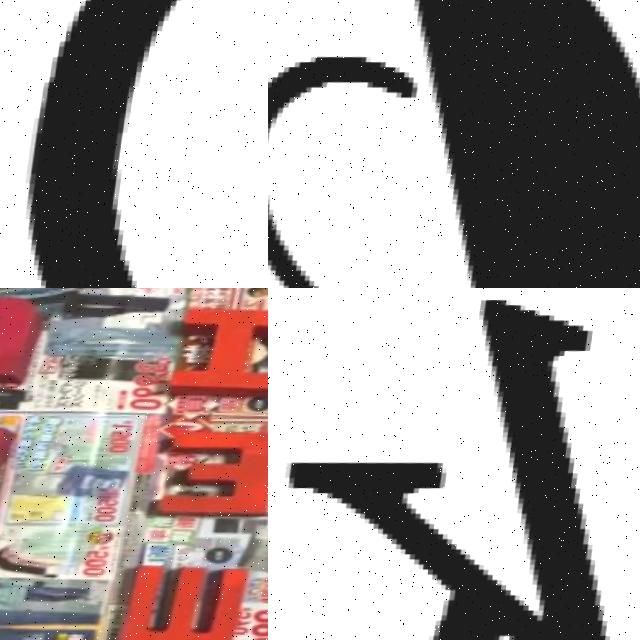6: (268, 0, 640, 288)
A: (0, 291, 45, 385)
E: (155, 429, 268, 531)
I: (167, 302, 268, 405)
K: (268, 288, 640, 640)
W: (122, 565, 254, 640)
